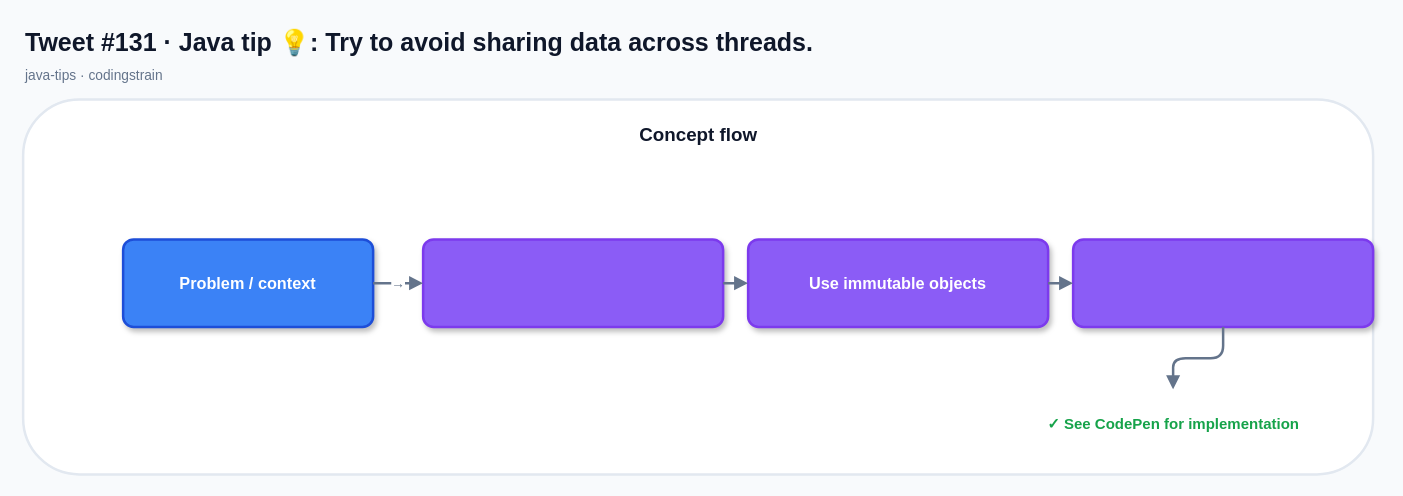
The diagram is 1403 pixels wide and 496 high, and some of its shapes have lost their labels. The shapes that lost their labels are listed below. From the top down, each one's centre as x and y in pixels, then its label:
At pixel 573 284: "Java tip 💡: Try to avoid sharing data across threads.".
At pixel 1223 284: "Or make threads communicate through messages, without directly modifyi".
